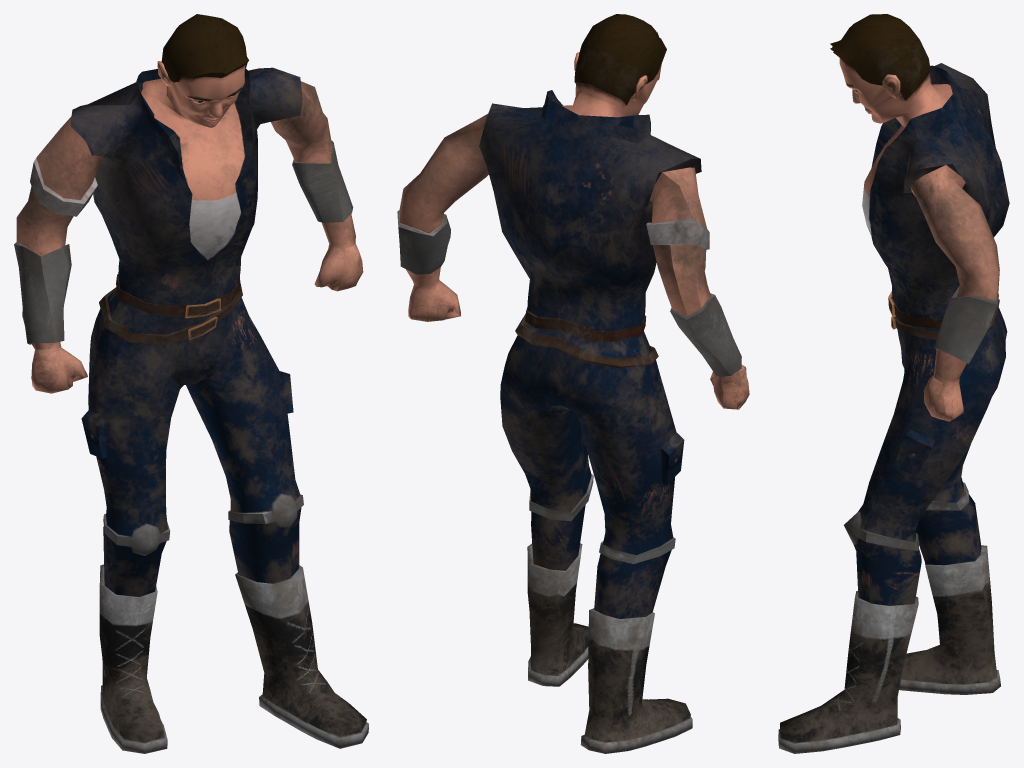
The model's file is Anim_coger_objeto_jugador.0020.obj.
3 renders of one model, left to right at view 1: azimuth 30°, elevation 25°; view 2: azimuth 150°, elevation 25°; view 3: azimuth 270°, elevation 25°, orthographic. The views are drawn at different scales.
Parts seen in each view (by area): view 1: polySurface1; view 2: polySurface1; view 3: polySurface1.
Part boxes in pixels (x1,y1,x2,y2): polySurface1: (14, 14, 368, 753); polySurface1: (397, 14, 749, 753); polySurface1: (778, 14, 1009, 753).
Size of the model in its own units: 4.65 by 9.41 by 2.86.
